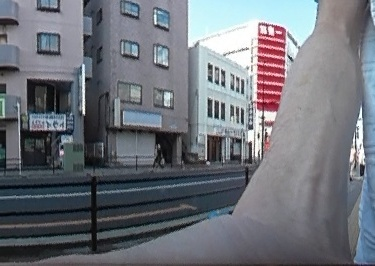person: (153, 142, 163, 167)
